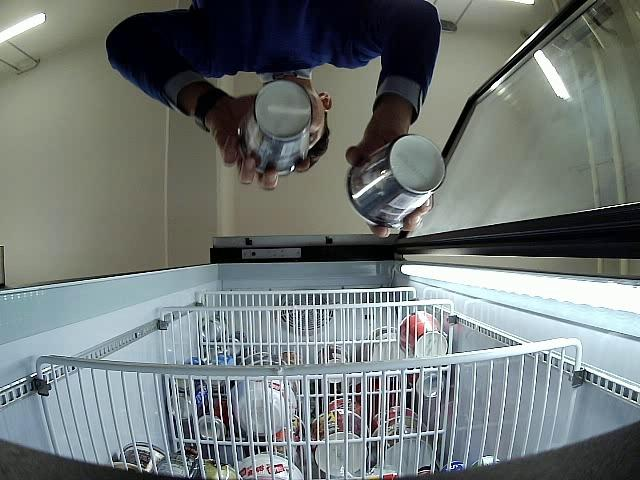00_hand: (346, 125, 433, 238), (211, 93, 311, 191)
08_buldak_S: (346, 133, 445, 226), (239, 80, 314, 176)
